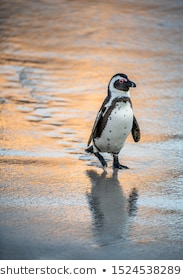penguin: (66, 62, 156, 183)
